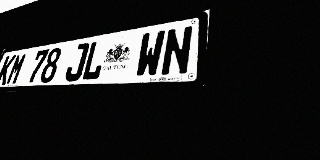7: (25, 49, 49, 84)
8: (38, 47, 64, 83)
J: (63, 42, 90, 82)
K: (0, 55, 17, 85)
L: (80, 39, 109, 81)
M: (5, 53, 28, 85)
N: (160, 25, 194, 76)
W: (134, 30, 166, 78)
